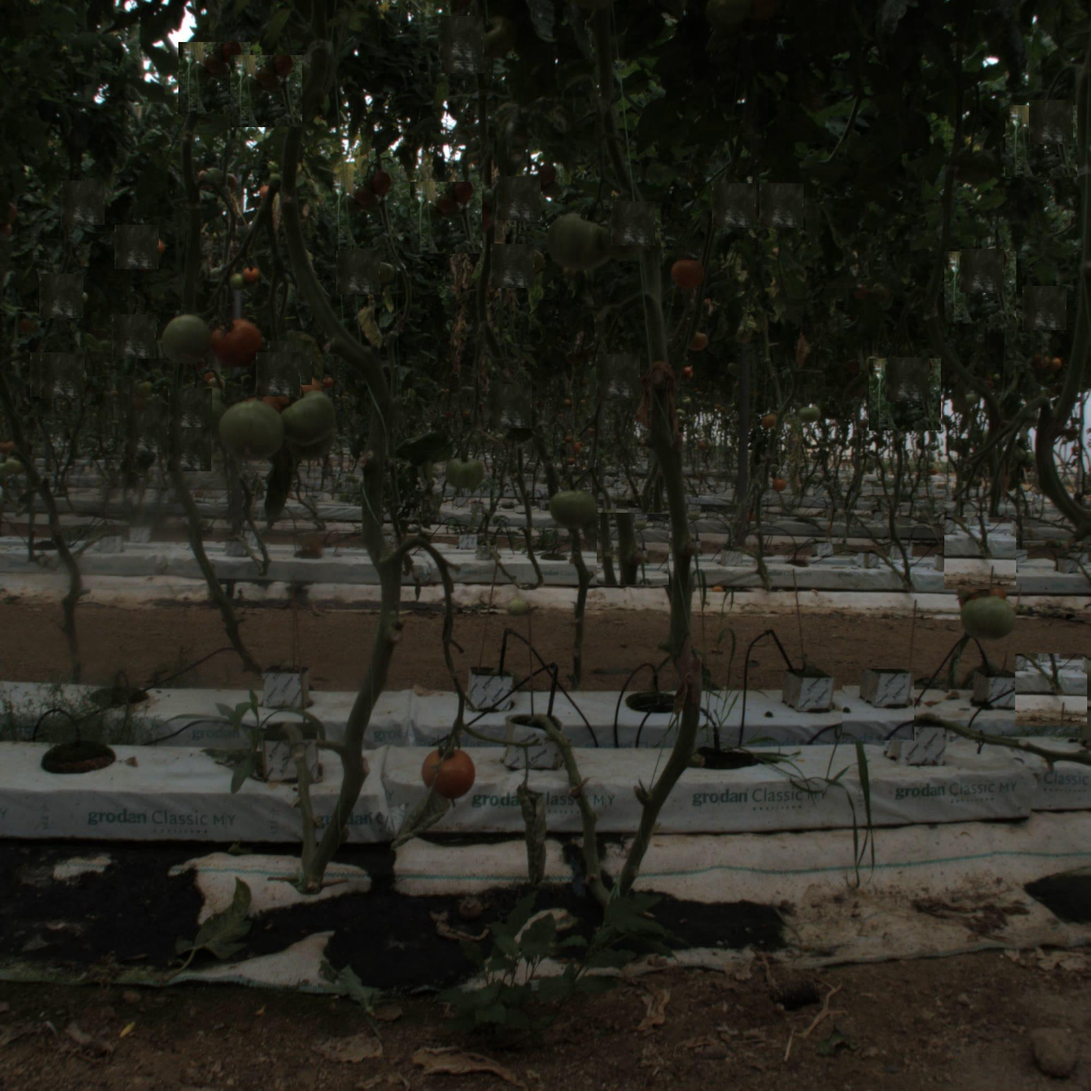fully-ripe: (423, 749, 473, 799), (216, 316, 261, 361), (668, 255, 703, 290)
unripe: (218, 397, 282, 461), (160, 313, 214, 368), (287, 392, 341, 447), (549, 213, 603, 267), (552, 485, 597, 530), (963, 592, 1008, 637), (446, 452, 481, 487)
